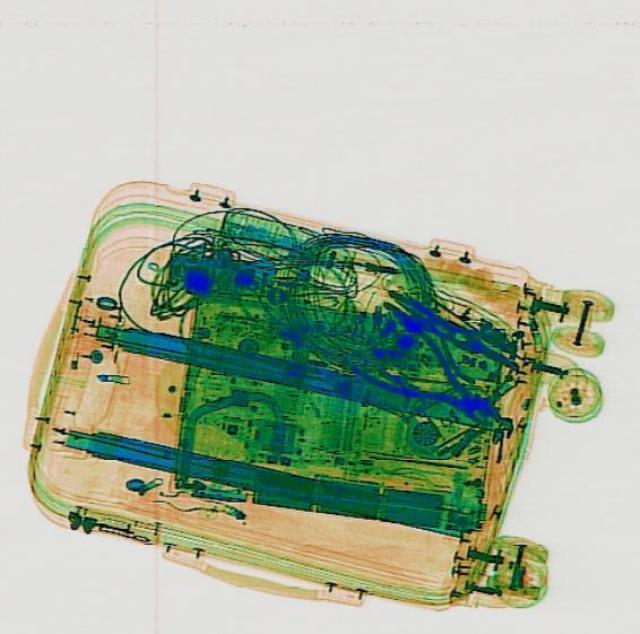Pliers: (348, 306, 520, 452), (376, 284, 524, 380)
